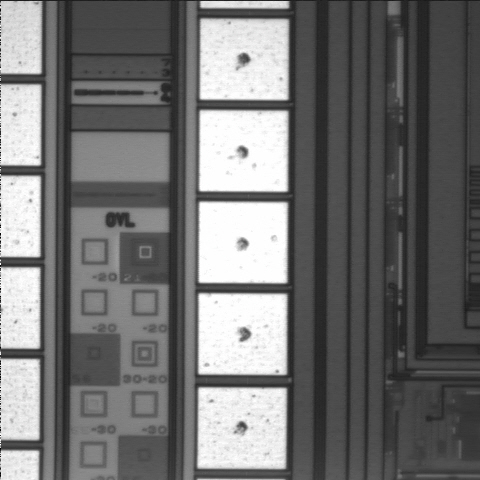pad: (197, 387, 287, 469), (199, 110, 288, 192), (198, 293, 287, 375), (199, 202, 288, 283), (200, 19, 288, 100)
